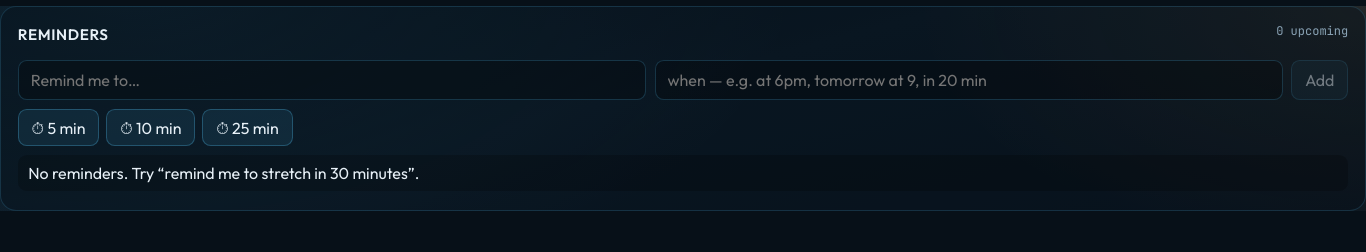
Scenario: RemindersPanel › adds a reminder and clears the form
Type "water plants" into the field named "What to remember". click: (332, 80)
box: [18,60,646,100]
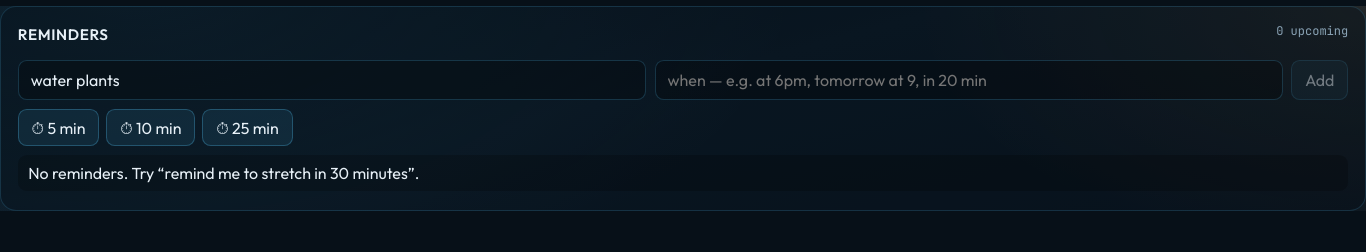
Type "at 6pm" into the field labelled "when". click: (969, 80)
box: [655,60,1283,100]
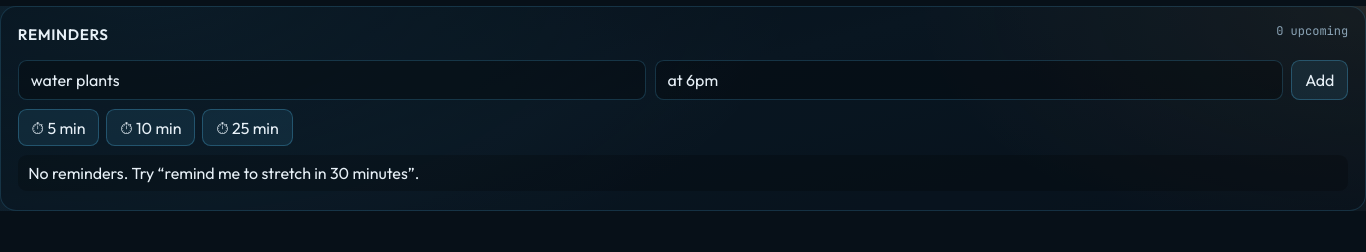
Click the button "Add". click: click(1320, 80)
box: [1291,60,1348,100]
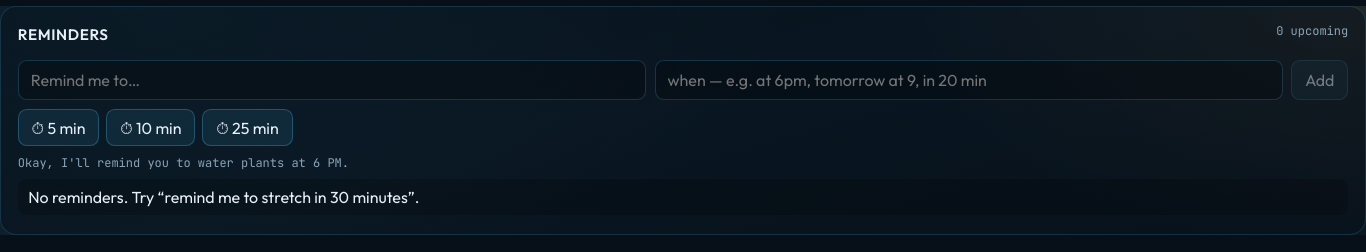
expect the message shows "water plants at 6 PM": met, box [18,155,349,171]
expect the field named "What to remember" is empty: met, box [18,60,646,100]
